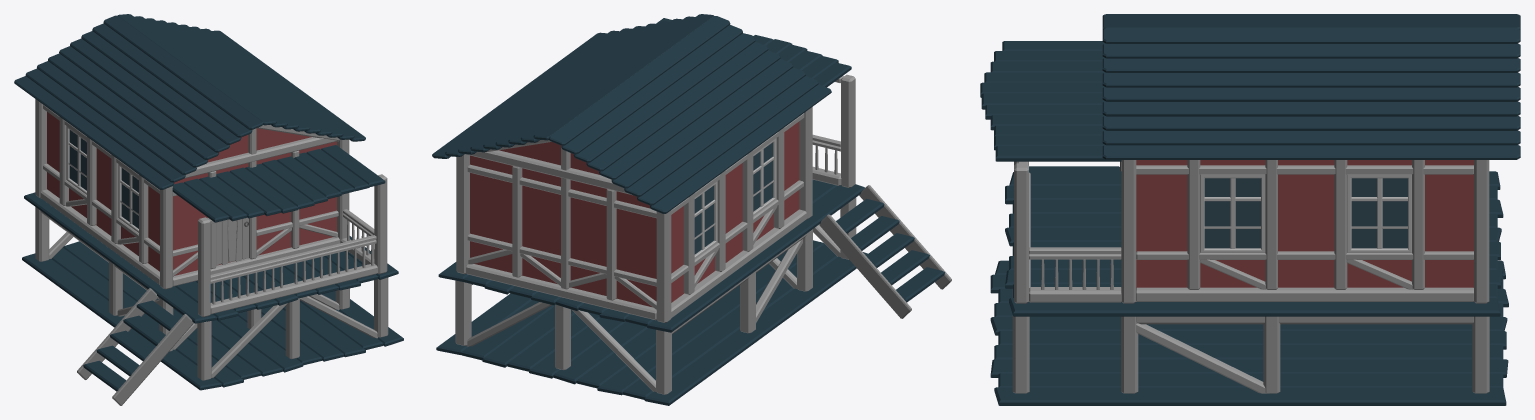
The model's file is farmstractures_17.glb.
The picture shows the model from 3 angles, left to right: view 1: azimuth 30°, elevation 25°; view 2: azimuth 150°, elevation 25°; view 3: azimuth 270°, elevation 25°; orthographic projection. The views are drawn at different scales.
Parts seen in each view (by area): view 1: farmstractures_17; view 2: farmstractures_17; view 3: farmstractures_17.
Part boxes in pixels (box(x1,y1,x2,y2)): farmstractures_17: box(14, 14, 403, 405); farmstractures_17: box(432, 14, 951, 405); farmstractures_17: box(980, 14, 1520, 405).
Size of the model in its own units: 6.6 by 4.91 by 7.71.
Materials: 1 (1 with a texture image).
